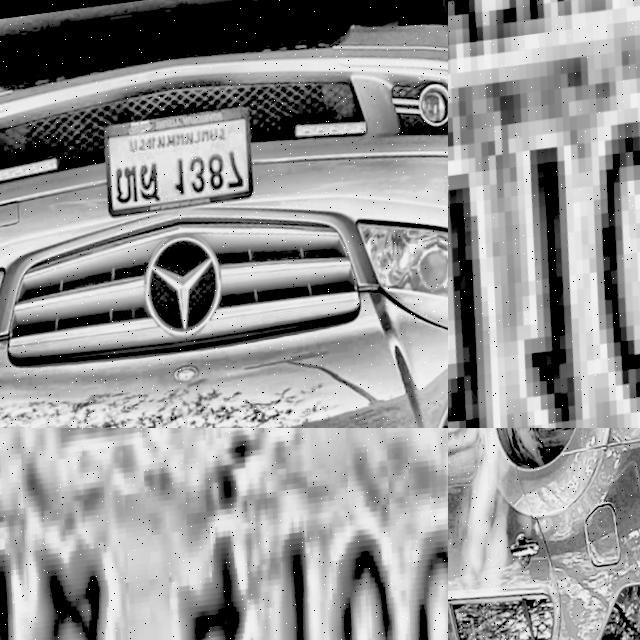license-plate: (0, 428, 448, 640), (448, 0, 640, 428), (95, 98, 265, 222)
